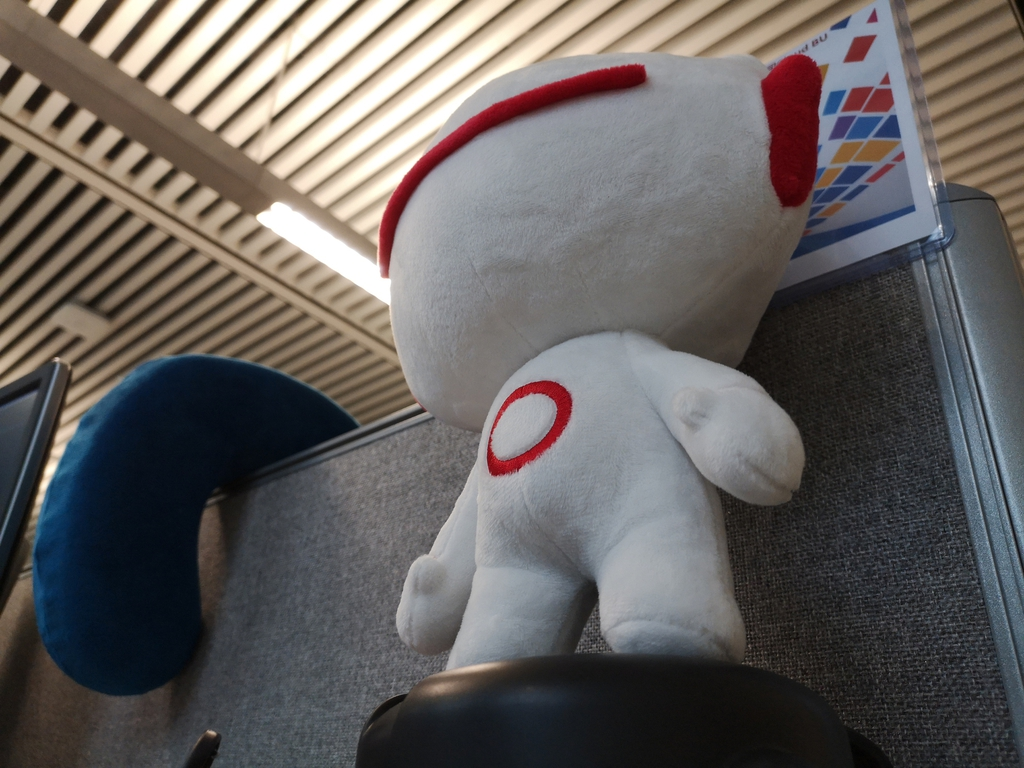yunbao: (339, 27, 853, 670)
